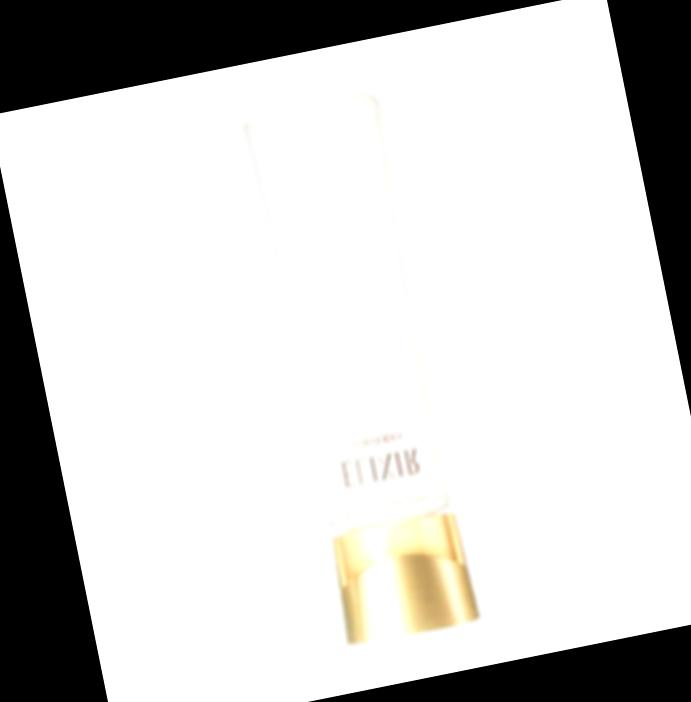cosmetic: (242, 87, 485, 648)
